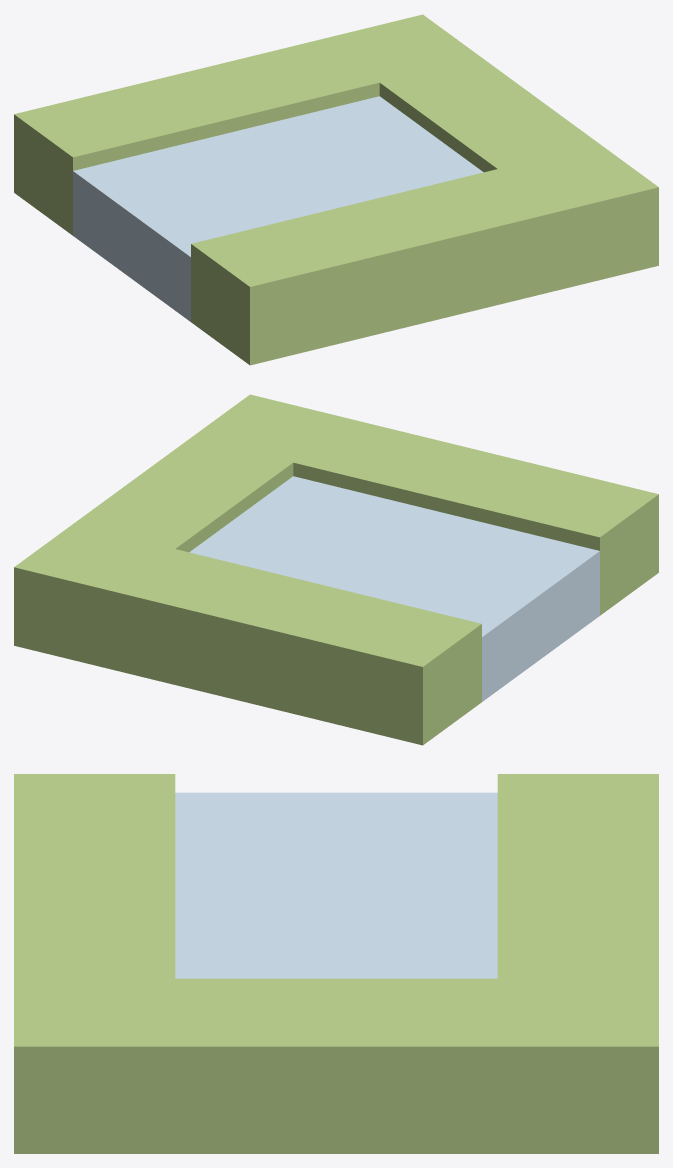
File: tile143.glb
3 renders of one model, top to bottom at view 1: azimuth 30°, elevation 25°; view 2: azimuth 150°, elevation 25°; view 3: azimuth 270°, elevation 25°, orthographic. The views are drawn at different scales.
Visible parts, largest first — view 1: tile143; view 2: tile143; view 3: tile143.
Boxes of the visible parts, x1,y1,x2,y2 form: tile143: (14,14,658,365); tile143: (14,394,658,745); tile143: (14,774,658,1153).
Bounding box in the file's own units: 1 × 0.1833 × 1.
